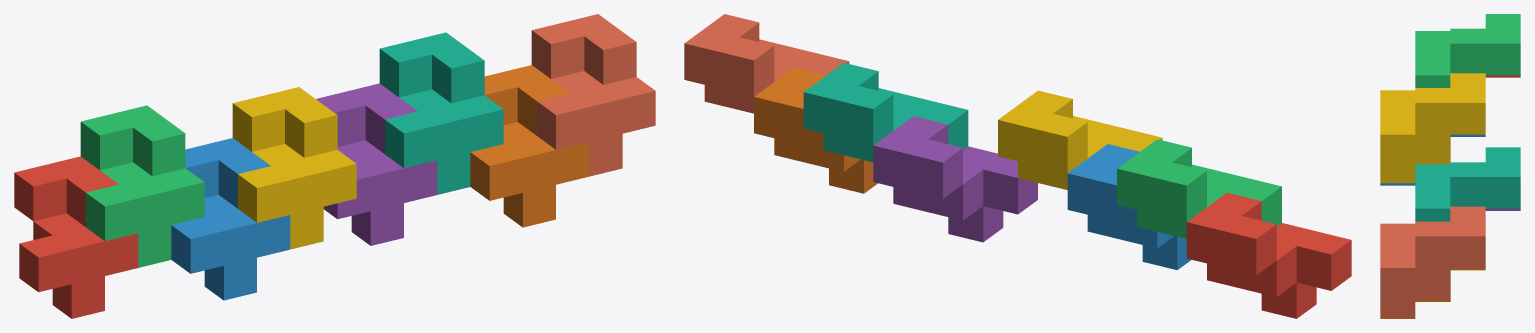
Rendered from tiling.obj.
3 views of the same model, side by side, from view 1: azimuth 30°, elevation 25°; view 2: azimuth 150°, elevation 25°; view 3: azimuth 270°, elevation 25° (orthographic). The views are drawn at different scales.
Visible parts, largest first — view 1: copy_1_domain_3, copy_1_domain_4, copy_1_domain_8, copy_1_domain_7, copy_1_domain_1, copy_1_domain_6, copy_1_domain_2, copy_1_domain_5; view 2: copy_1_domain_1, copy_1_domain_5, copy_1_domain_7, copy_1_domain_3, copy_1_domain_8, copy_1_domain_4, copy_1_domain_2, copy_1_domain_6; view 3: copy_1_domain_8, copy_1_domain_4, copy_1_domain_7, copy_1_domain_3, copy_1_domain_6, copy_1_domain_2.
Boxes of the visible parts, box(x1,y1,x2,y2) form: copy_1_domain_3: box(80, 105, 204, 267); copy_1_domain_4: box(232, 87, 356, 249); copy_1_domain_8: box(531, 14, 655, 176); copy_1_domain_7: box(379, 32, 503, 194); copy_1_domain_1: box(14, 156, 138, 318); copy_1_domain_6: box(470, 65, 589, 227); copy_1_domain_2: box(171, 138, 290, 300); copy_1_domain_5: box(316, 83, 437, 245); copy_1_domain_1: box(1186, 192, 1351, 318); copy_1_domain_5: box(873, 116, 1037, 242); copy_1_domain_7: box(803, 63, 968, 162); copy_1_domain_3: box(1117, 139, 1281, 238); copy_1_domain_8: box(684, 14, 849, 113); copy_1_domain_4: box(998, 90, 1162, 189); copy_1_domain_2: box(1067, 144, 1191, 270); copy_1_domain_6: box(754, 67, 877, 193); copy_1_domain_8: box(1380, 206, 1485, 316); copy_1_domain_4: box(1380, 73, 1485, 183); copy_1_domain_7: box(1415, 147, 1520, 221); copy_1_domain_3: box(1415, 14, 1520, 87); copy_1_domain_6: box(1380, 268, 1485, 318); copy_1_domain_2: box(1380, 134, 1485, 185).
Bounding box in the file's own units: 18 × 4 × 4.
